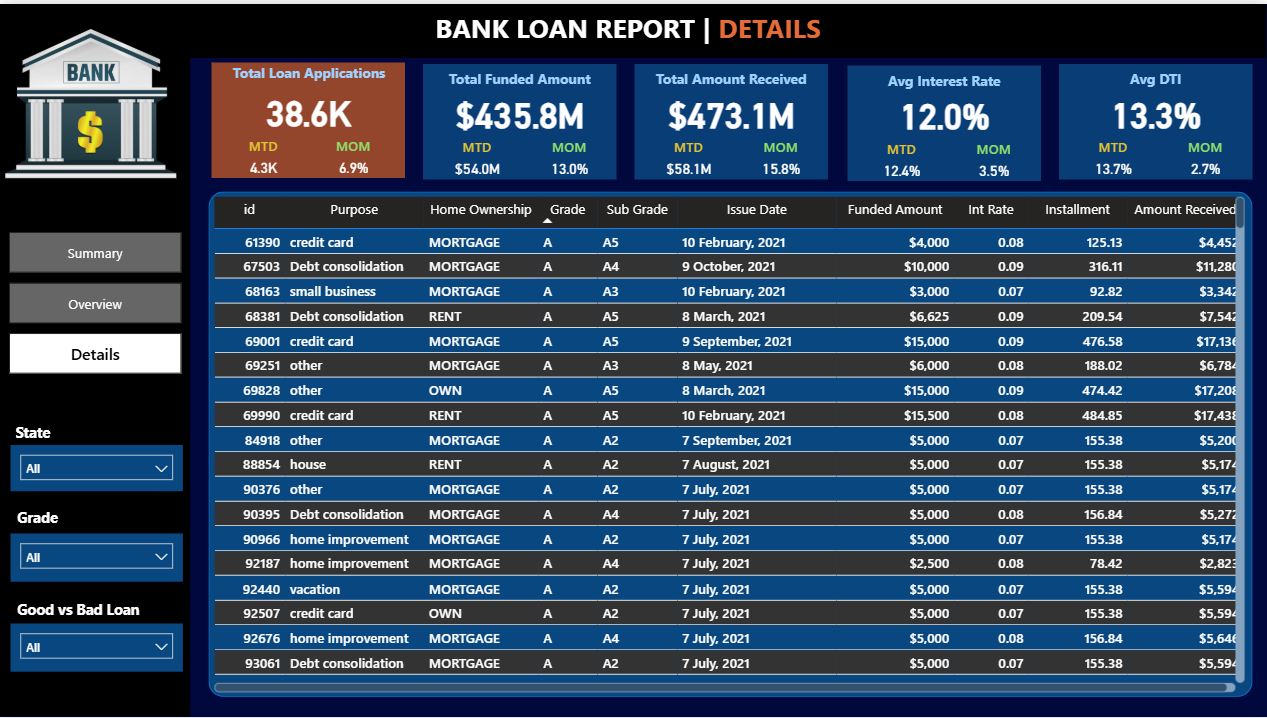

Layout of this report page (visuals, bound fields, positions):
{"tool":"powerbi","page":{"name":"Details","canvas":[1280,720],"ordinal":2},"visuals":[{"type":"shape","box":[210.5,189.3,1053.9,510.3],"z":0},{"type":"shape","box":[0,0,1279.5,54.5],"z":1000},{"type":"shape","box":[0,54.5,192.3,664.7],"z":2000},{"type":"shape","box":[213.3,59.1,195.3,116.6],"z":2000,"group":"g1"},{"type":"textbox","box":[434.6,0,443.7,54.5],"z":3000},{"type":"group","id":"g1","title":"Group 1","box":[209.9,53.8,202.9,121.9],"z":4000},{"type":"shape","box":[427.2,60.6,195.3,116.6],"z":4000,"group":"g2"},{"type":"shape","box":[641.1,60.6,195.3,116.6],"z":4000,"group":"g4"},{"type":"shape","box":[1069,60.6,195.3,116.6],"z":4000,"group":"g3"},{"type":"shape","box":[855.1,62.1,195.3,116.6],"z":4000,"group":"g5"},{"type":"card","fields":{"Values":["financial_loan.Tatal Loan Applications"]},"box":[213.3,81.8,195.3,51.5],"z":4000,"group":"g1"},{"type":"textbox","box":[209.9,53.8,202.9,46.9],"z":5000,"group":"g1"},{"type":"group","id":"g2","title":"Group 2","box":[427.2,60.6,195.3,116.6],"z":5000},{"type":"card","fields":{"Values":["financial_loan.Total Funded Amount"]},"box":[427.2,83.3,195.3,51.5],"z":5000,"group":"g2"},{"type":"card","fields":{"Values":["financial_loan.Total Amount Received"]},"box":[641.1,83.3,195.3,51.5],"z":5000,"group":"g4"},{"type":"card","fields":{"Values":["financial_loan.Avg DTI"]},"box":[1069,83.3,195.3,51.5],"z":5000,"group":"g3"},{"type":"card","fields":{"Values":["financial_loan.Avg Interest Rate"]},"box":[855.1,84.8,195.3,51.5],"z":5000,"group":"g5"},{"type":"textbox","box":[427.2,60.6,195.3,33.3],"z":6000,"group":"g2"},{"type":"textbox","box":[641.1,60.6,195.3,33.3],"z":6000,"group":"g4"},{"type":"group","id":"g3","title":"Group 2","box":[1069,60.6,195.3,116.6],"z":6000},{"type":"textbox","box":[1069,60.6,195.3,33.3],"z":6000,"group":"g3"},{"type":"textbox","box":[855.1,62.1,195.3,33.3],"z":6000,"group":"g5"},{"type":"card","title":"MTD","fields":{"Values":["financial_loan.MTD Loan Applications"]},"box":[228.4,133.3,74.2,42.4],"z":6000,"group":"g1"},{"type":"group","id":"g4","title":"Group 2","box":[641.1,60.6,195.3,116.6],"z":7000},{"type":"card","title":"MOM","fields":{"Values":["financial_loan.MOM Loan Application"]},"box":[319.3,133.3,74.2,42.4],"z":7000,"group":"g1"},{"type":"card","title":"MTD","fields":{"Values":["financial_loan.MTD Funded Amount"]},"box":[437.8,134.8,87.8,42.4],"z":7000,"group":"g2"},{"type":"card","title":"MTD","fields":{"Values":["financial_loan.MTD Total Amount Received"]},"box":[651.7,134.8,87.8,42.4],"z":7000,"group":"g4"},{"type":"card","title":"MTD","fields":{"Values":["financial_loan.MTD Avg DTI"]},"box":[1079.6,134.8,87.8,42.4],"z":7000,"group":"g3"},{"type":"card","title":"MTD","fields":{"Values":["financial_loan.MTD Avg Int Rate"]},"box":[865.7,136.3,87.8,42.4],"z":7000,"group":"g5"},{"type":"group","id":"g5","title":"Group 2","box":[855.1,62.1,195.3,116.6],"z":8000},{"type":"card","title":"MOM","fields":{"Values":["financial_loan.MOM Total Funded Amount"]},"box":[537.7,134.8,74.2,42.4],"z":8000,"group":"g2"},{"type":"card","title":"MOM","fields":{"Values":["financial_loan.MOM Total Amount Received"]},"box":[751.6,134.8,74.2,42.4],"z":8000,"group":"g4"},{"type":"card","title":"MOM","fields":{"Values":["financial_loan.MOM Avg DTI"]},"box":[1179.5,134.8,74.2,42.4],"z":8000,"group":"g3"},{"type":"card","title":"MOM","fields":{"Values":["financial_loan.MOM Avg Int Rate"]},"box":[965.6,136.3,74.2,42.4],"z":8000,"group":"g5"},{"type":"slicer","fields":{"Values":["financial_loan.address_state"]},"box":[10.6,444.7,174.1,46.9],"z":9000},{"type":"textbox","box":[10.6,415.9,63.6,31.8],"z":10000},{"type":"slicer","fields":{"Values":["financial_loan.grade"]},"box":[10.6,534,174.1,48.5],"z":11000},{"type":"textbox","box":[12.1,502.2,62.1,33.3],"z":12000},{"type":"slicer","fields":{"Values":["financial_loan.Good vs Bad Loan"]},"box":[10.6,624.9,174.1,48.5],"z":13000},{"type":"textbox","box":[12.1,594.6,137.8,30.3],"z":14000},{"type":"tableEx","fields":{"Values":["financial_loan.id","financial_loan.purpose","financial_loan.home_ownership","financial_loan.grade","financial_loan.sub_grade","financial_loan.issue_date","financial_loan.Total Funded Amount","Sum(financial_loan.int_rate)","Sum(financial_loan.installment)","financial_loan.Total Amount Received"]},"box":[210.5,189.3,1050.9,510.3],"z":15000},{"type":"pageNavigator","box":[9.1,230.2,174.1,145.4],"z":16000},{"type":"image","box":[0,4.5,183.2,192.3],"z":17000}]}

Visuals, with their boxes in screenshot pixels (x1, y1, x2, y2), scaled from the page's 1280x720 canvas onto the 1267x718 screenshot:
shape: select_region(208, 189, 1252, 698)
shape: select_region(0, 0, 1266, 54)
shape: select_region(0, 54, 190, 717)
shape: select_region(211, 59, 404, 175)
textbox: select_region(430, 0, 869, 54)
"Group 1" group: select_region(208, 54, 409, 175)
shape: select_region(423, 60, 616, 177)
shape: select_region(635, 60, 828, 177)
shape: select_region(1058, 60, 1251, 177)
shape: select_region(846, 62, 1040, 178)
card - financial_loan.Tatal Loan Applications: select_region(211, 82, 404, 133)
textbox: select_region(208, 54, 409, 100)
"Group 2" group: select_region(423, 60, 616, 177)
card - financial_loan.Total Funded Amount: select_region(423, 83, 616, 134)
card - financial_loan.Total Amount Received: select_region(635, 83, 828, 134)
card - financial_loan.Avg DTI: select_region(1058, 83, 1251, 134)
card - financial_loan.Avg Interest Rate: select_region(846, 85, 1040, 136)
textbox: select_region(423, 60, 616, 94)
textbox: select_region(635, 60, 828, 94)
"Group 2" group: select_region(1058, 60, 1251, 177)
textbox: select_region(1058, 60, 1251, 94)
textbox: select_region(846, 62, 1040, 95)
"MTD" card: select_region(226, 133, 300, 175)
"Group 2" group: select_region(635, 60, 828, 177)
"MOM" card: select_region(316, 133, 390, 175)
"MTD" card: select_region(433, 134, 520, 177)
"MTD" card: select_region(645, 134, 732, 177)
"MTD" card: select_region(1069, 134, 1156, 177)
"MTD" card: select_region(857, 136, 944, 178)
"Group 2" group: select_region(846, 62, 1040, 178)
"MOM" card: select_region(532, 134, 606, 177)
"MOM" card: select_region(744, 134, 817, 177)
"MOM" card: select_region(1168, 134, 1241, 177)
"MOM" card: select_region(956, 136, 1029, 178)
slicer - financial_loan.address_state: select_region(10, 443, 183, 490)
textbox: select_region(10, 415, 73, 446)
slicer - financial_loan.grade: select_region(10, 533, 183, 581)
textbox: select_region(12, 501, 73, 534)
slicer - financial_loan.Good vs Bad Loan: select_region(10, 623, 183, 672)
textbox: select_region(12, 593, 148, 623)
tableEx - financial_loan.id x financial_loan.purpose: select_region(208, 189, 1249, 698)
pageNavigator: select_region(9, 230, 181, 375)
image: select_region(0, 4, 181, 196)
